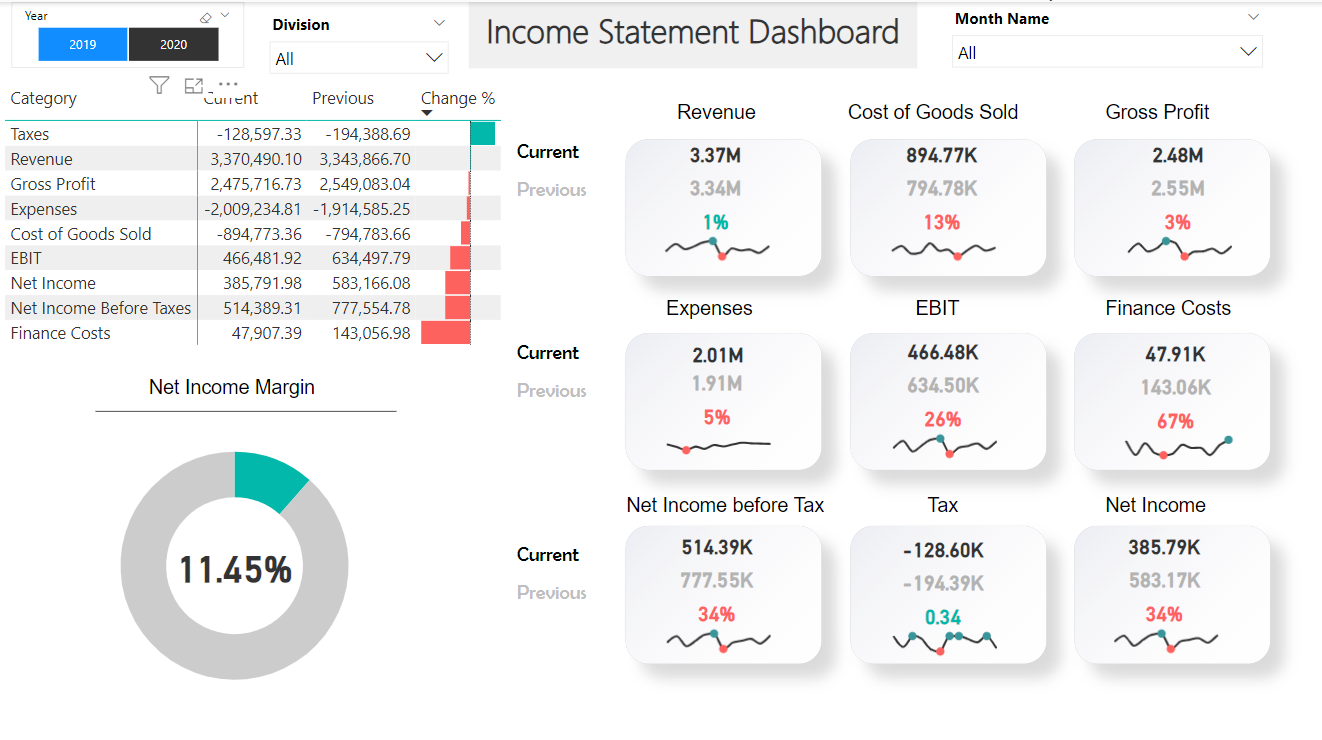

The dashboard page shown, as its layout file describes it:
{"tool":"powerbi","page":{"name":"Page 1","canvas":[1280,720],"ordinal":0},"visuals":[{"type":"pivotTable","fields":{"Rows":["Layout.Category"],"Values":["My Measures.Current","My Measures.Previous","My Measures.Change in %"]},"box":[0,75,502.5,285],"z":0},{"type":"card","fields":{"Values":["KPIs.Current Revenue"]},"box":[640,131.4,100,32.9],"z":0,"group":"g1"},{"type":"card","fields":{"Values":["KPIs.Cost of Goods Sold Current"]},"box":[858.6,131.4,100,32.9],"z":0,"group":"g2"},{"type":"card","fields":{"Values":["KPIs.Gross Profit Current"]},"box":[1087.1,131.4,100,32.9],"z":0,"group":"g3"},{"type":"card","fields":{"Values":["KPIs.EBIT Current"]},"box":[860,321.4,100,32.9],"z":0,"group":"g5"},{"type":"card","fields":{"Values":["KPIs.Finance Costs Current"]},"box":[1083.9,322.7,100,32.9],"z":0,"group":"g6"},{"type":"card","fields":{"Values":["KPIs.Expenses Current"]},"box":[642.2,324.3,100,32.9],"z":0,"group":"g4"},{"type":"card","fields":{"Values":["KPIs.Net Income before Tax Current"]},"box":[642.1,510,100,32.9],"z":0,"group":"g7"},{"type":"card","fields":{"Values":["KPIs.Net Income Current"]},"box":[1073.9,510,100,32.9],"z":0,"group":"g9"},{"type":"card","fields":{"Values":["KPIs.Taxes Current"]},"box":[860.2,512.7,100,32.9],"z":0,"group":"g8"},{"type":"slicer","fields":{"Values":["Calendar.Year"]},"box":[11.2,0,223.8,63.8],"z":1000},{"type":"card","fields":{"Values":["KPIs.Previous Revenue"]},"box":[640,164.3,100,31.4],"z":1000,"group":"g1"},{"type":"card","fields":{"Values":["KPIs.Cost of Goods Sold Previous"]},"box":[858.6,164.3,100,31.4],"z":1000,"group":"g2"},{"type":"card","fields":{"Values":["KPIs.Gross Profit Previous"]},"box":[1087.1,164.3,100,31.4],"z":1000,"group":"g3"},{"type":"card","fields":{"Values":["KPIs.Expenses Previous"]},"box":[641.4,351.4,100,31.4],"z":1000,"group":"g4"},{"type":"card","fields":{"Values":["KPIs.EBIT Previous"]},"box":[860,354.3,100,31.4],"z":1000,"group":"g5"},{"type":"card","fields":{"Values":["KPIs.Finance Costs Previous"]},"box":[1083.9,355.6,100,31.4],"z":1000,"group":"g6"},{"type":"card","fields":{"Values":["KPIs.Net Income before Tax Preious"]},"box":[642.1,542.9,100,31.4],"z":1000,"group":"g7"},{"type":"card","fields":{"Values":["KPIs.Net Income Previous"]},"box":[1073.9,542.9,100,31.4],"z":1000,"group":"g9"},{"type":"card","fields":{"Values":["KPIs.Taxes Previous"]},"box":[860.2,545.6,100,31.4],"z":1000,"group":"g8"},{"type":"card","fields":{"Values":["KPIs.Revenue % Change"]},"box":[640,195.7,100,34.3],"z":2000,"group":"g1"},{"type":"card","fields":{"Values":["KPIs.Cost of Goods Sold % Change"]},"box":[858.6,195.7,100,34.3],"z":2000,"group":"g2"},{"type":"card","fields":{"Values":["KPIs.Gross Profit % Change"]},"box":[1087.1,195.7,100,34.3],"z":2000,"group":"g3"},{"type":"card","fields":{"Values":["KPIs.Expenses % Change"]},"box":[641.4,382.9,100,34.3],"z":2000,"group":"g4"},{"type":"card","fields":{"Values":["KPIs.EBIT % Change"]},"box":[860,385.7,100,34.3],"z":2000,"group":"g5"},{"type":"card","fields":{"Values":["KPIs.Finance Costs % Change"]},"box":[1083.9,387,100,34.3],"z":2000,"group":"g6"},{"type":"donutChart","fields":{"Y":["My Measures.Net Income Margin","My Measures.Inv Net Margin"]},"box":[11.2,401.2,431.2,285],"z":2000},{"type":"card","fields":{"Values":["KPIs.Net Income before Tax % Change"]},"box":[642.1,574.3,100,34.3],"z":2000,"group":"g7"},{"type":"card","fields":{"Values":["KPIs.Net Income % Change"]},"box":[1073.9,574.3,100,34.3],"z":2000,"group":"g9"},{"type":"card","fields":{"Values":["KPIs.Taxes % Change"]},"box":[860.2,577,100,34.3],"z":2000,"group":"g8"},{"type":"PBI_CV_25997FEB_F466_44FA_B562_AC4063283C4C","fields":{"axis":["Calendar.Month Name"],"measure":["My Measures.Revenue"]},"box":[624.3,212.8,138.6,42.9],"z":3000,"group":"g1"},{"type":"PBI_CV_25997FEB_F466_44FA_B562_AC4063283C4C","fields":{"axis":["Calendar.Month Name"],"measure":["My Measures.Cost of Goods Sold"]},"box":[842.9,212.8,138.6,42.9],"z":3000,"group":"g2"},{"type":"PBI_CV_25997FEB_F466_44FA_B562_AC4063283C4C","fields":{"axis":["Calendar.Month Name"],"measure":["My Measures.Gross Profit"]},"box":[1071.4,212.8,138.6,42.9],"z":3000,"group":"g3"},{"type":"PBI_CV_25997FEB_F466_44FA_B562_AC4063283C4C","fields":{"axis":["Calendar.Month Name"],"measure":["My Measures.Expenses"]},"box":[625.7,400,138.6,42.9],"z":3000,"group":"g4"},{"type":"PBI_CV_25997FEB_F466_44FA_B562_AC4063283C4C","fields":{"axis":["Calendar.Month Name"],"measure":["My Measures.EBIT"]},"box":[844.3,402.8,138.6,42.9],"z":3000,"group":"g5"},{"type":"PBI_CV_25997FEB_F466_44FA_B562_AC4063283C4C","fields":{"axis":["Calendar.Month Name"],"measure":["My Measures.Finance Costs"]},"box":[1068.2,404.1,138.6,42.9],"z":3000,"group":"g6"},{"type":"card","fields":{"Values":["My Measures.Net Income Margin"]},"box":[156,498,142,92],"z":3000},{"type":"PBI_CV_25997FEB_F466_44FA_B562_AC4063283C4C","fields":{"axis":["Calendar.Month Name"],"measure":["My Measures.Net Income Before Tax"]},"box":[626.4,591.4,138.6,42.9],"z":3000,"group":"g7"},{"type":"PBI_CV_25997FEB_F466_44FA_B562_AC4063283C4C","fields":{"axis":["Calendar.Month Name"],"measure":["My Measures.Net Income"]},"box":[1058.2,591.4,138.6,42.9],"z":3000,"group":"g9"},{"type":"PBI_CV_25997FEB_F466_44FA_B562_AC4063283C4C","fields":{"axis":["Calendar.Month Name"],"measure":["My Measures.Taxes"]},"box":[844.5,594.1,138.6,42.9],"z":3000,"group":"g8"},{"type":"group","id":"g1","title":"Group 1","box":[624.3,131.4,138.6,124.3],"z":4000},{"type":"group","id":"g2","title":"Group 1","box":[842.9,131.4,138.6,124.3],"z":5000},{"type":"group","id":"g3","title":"Group 1","box":[1071.4,131.4,138.6,124.3],"z":6000},{"type":"group","id":"g4","title":"Group 1","box":[625.7,324.3,138.6,118.6],"z":7000},{"type":"group","id":"g5","title":"Group 1","box":[844.3,321.4,138.6,124.3],"z":8000},{"type":"group","id":"g6","title":"Group 1","box":[1068.2,322.7,138.2,123.6],"z":9000},{"type":"group","id":"g7","title":"Group 1","box":[626.4,510,138.2,123.6],"z":10000},{"type":"group","id":"g8","title":"Group 1","box":[844.5,512.7,138.2,123.6],"z":11000},{"type":"group","id":"g9","title":"Group 1","box":[1058.2,510,138.2,123.6],"z":12000},{"type":"textbox","box":[452.9,0,432.9,64.3],"z":13000},{"type":"textbox","box":[781.5,75,498.5,285],"z":14000},{"type":"slicer","fields":{"Values":["Division.Division"]},"box":[250,5.7,192.9,70],"z":15000},{"type":"slicer","fields":{"Values":["Calendar.Month Name"]},"box":[908.6,0,320,64.3],"z":16000}]}

Visuals, with their boxes on the page's 1280x720 design canvas (x1, y1, x2, y2). These are canvas units, not pixel positions in the 1322x740 screenshot, which may show the page scaled, cropped or inside an application window:
pivotTable - Layout.Category x My Measures.Current: detection(0, 75, 502, 360)
card - KPIs.Current Revenue: detection(640, 131, 740, 164)
card - KPIs.Cost of Goods Sold Current: detection(859, 131, 959, 164)
card - KPIs.Gross Profit Current: detection(1087, 131, 1187, 164)
card - KPIs.EBIT Current: detection(860, 321, 960, 354)
card - KPIs.Finance Costs Current: detection(1084, 323, 1184, 356)
card - KPIs.Expenses Current: detection(642, 324, 742, 357)
card - KPIs.Net Income before Tax Current: detection(642, 510, 742, 543)
card - KPIs.Net Income Current: detection(1074, 510, 1174, 543)
card - KPIs.Taxes Current: detection(860, 513, 960, 546)
slicer - Calendar.Year: detection(11, 0, 235, 64)
card - KPIs.Previous Revenue: detection(640, 164, 740, 196)
card - KPIs.Cost of Goods Sold Previous: detection(859, 164, 959, 196)
card - KPIs.Gross Profit Previous: detection(1087, 164, 1187, 196)
card - KPIs.Expenses Previous: detection(641, 351, 741, 383)
card - KPIs.EBIT Previous: detection(860, 354, 960, 386)
card - KPIs.Finance Costs Previous: detection(1084, 356, 1184, 387)
card - KPIs.Net Income before Tax Preious: detection(642, 543, 742, 574)
card - KPIs.Net Income Previous: detection(1074, 543, 1174, 574)
card - KPIs.Taxes Previous: detection(860, 546, 960, 577)
card - KPIs.Revenue % Change: detection(640, 196, 740, 230)
card - KPIs.Cost of Goods Sold % Change: detection(859, 196, 959, 230)
card - KPIs.Gross Profit % Change: detection(1087, 196, 1187, 230)
card - KPIs.Expenses % Change: detection(641, 383, 741, 417)
card - KPIs.EBIT % Change: detection(860, 386, 960, 420)
card - KPIs.Finance Costs % Change: detection(1084, 387, 1184, 421)
donutChart - My Measures.Net Income Margin x My Measures.Inv Net Margin: detection(11, 401, 442, 686)
card - KPIs.Net Income before Tax % Change: detection(642, 574, 742, 609)
card - KPIs.Net Income % Change: detection(1074, 574, 1174, 609)
card - KPIs.Taxes % Change: detection(860, 577, 960, 611)
PBI_CV_25997FEB_F466_44FA_B562_AC4063283C4C - Calendar.Month Name x My Measures.Revenue: detection(624, 213, 763, 256)
PBI_CV_25997FEB_F466_44FA_B562_AC4063283C4C - Calendar.Month Name x My Measures.Cost of Goods Sold: detection(843, 213, 982, 256)
PBI_CV_25997FEB_F466_44FA_B562_AC4063283C4C - Calendar.Month Name x My Measures.Gross Profit: detection(1071, 213, 1210, 256)
PBI_CV_25997FEB_F466_44FA_B562_AC4063283C4C - Calendar.Month Name x My Measures.Expenses: detection(626, 400, 764, 443)
PBI_CV_25997FEB_F466_44FA_B562_AC4063283C4C - Calendar.Month Name x My Measures.EBIT: detection(844, 403, 983, 446)
PBI_CV_25997FEB_F466_44FA_B562_AC4063283C4C - Calendar.Month Name x My Measures.Finance Costs: detection(1068, 404, 1207, 447)
card - My Measures.Net Income Margin: detection(156, 498, 298, 590)
PBI_CV_25997FEB_F466_44FA_B562_AC4063283C4C - Calendar.Month Name x My Measures.Net Income Before Tax: detection(626, 591, 765, 634)
PBI_CV_25997FEB_F466_44FA_B562_AC4063283C4C - Calendar.Month Name x My Measures.Net Income: detection(1058, 591, 1197, 634)
PBI_CV_25997FEB_F466_44FA_B562_AC4063283C4C - Calendar.Month Name x My Measures.Taxes: detection(844, 594, 983, 637)
"Group 1" group: detection(624, 131, 763, 256)
"Group 1" group: detection(843, 131, 982, 256)
"Group 1" group: detection(1071, 131, 1210, 256)
"Group 1" group: detection(626, 324, 764, 443)
"Group 1" group: detection(844, 321, 983, 446)
"Group 1" group: detection(1068, 323, 1206, 446)
"Group 1" group: detection(626, 510, 765, 634)
"Group 1" group: detection(844, 513, 983, 636)
"Group 1" group: detection(1058, 510, 1196, 634)
textbox: detection(453, 0, 886, 64)
textbox: detection(782, 75, 1280, 360)
slicer - Division.Division: detection(250, 6, 443, 76)
slicer - Calendar.Month Name: detection(909, 0, 1229, 64)
